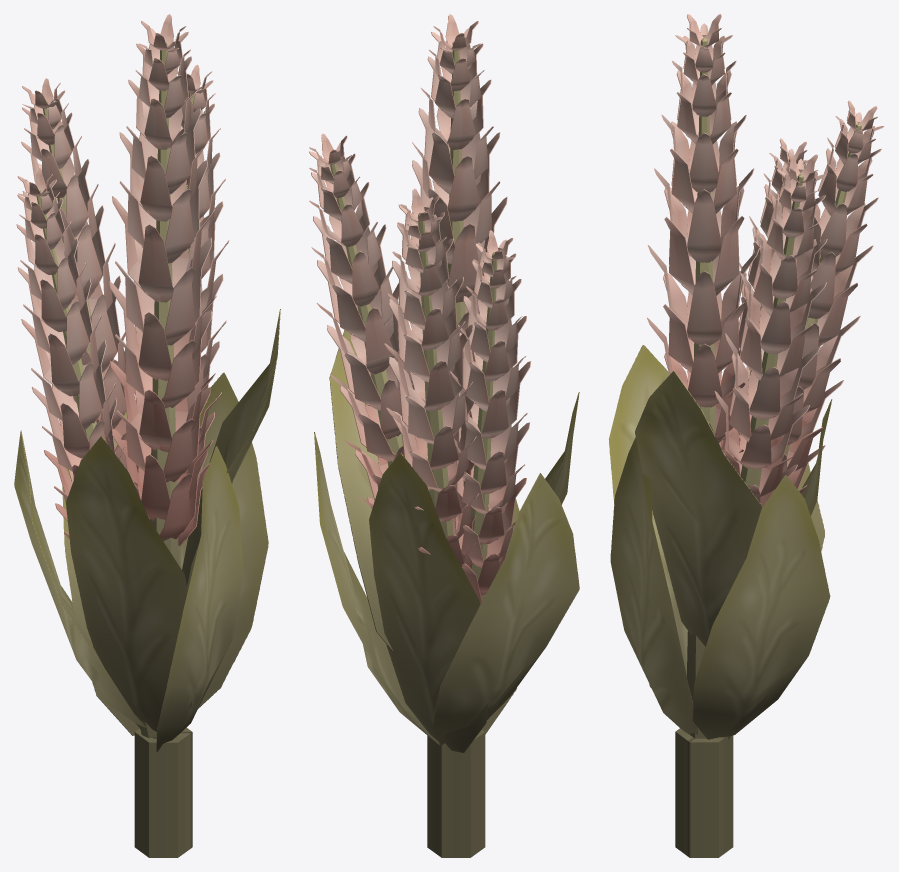
File: Plant01.fbx
3 views of the same model, side by side, from view 1: azimuth 30°, elevation 25°; view 2: azimuth 150°, elevation 25°; view 3: azimuth 270°, elevation 25° (orthographic).
Parts seen in each view (by area): view 1: Cylinder.002; view 2: Cylinder.002; view 3: Cylinder.002.
Part boxes in pixels (box(x1,y1,x2,y2)): Cylinder.002: box(14, 14, 280, 857); Cylinder.002: box(309, 14, 579, 857); Cylinder.002: box(608, 14, 884, 857).
Size of the model in its own units: 18.55 by 60.59 by 18.35.
